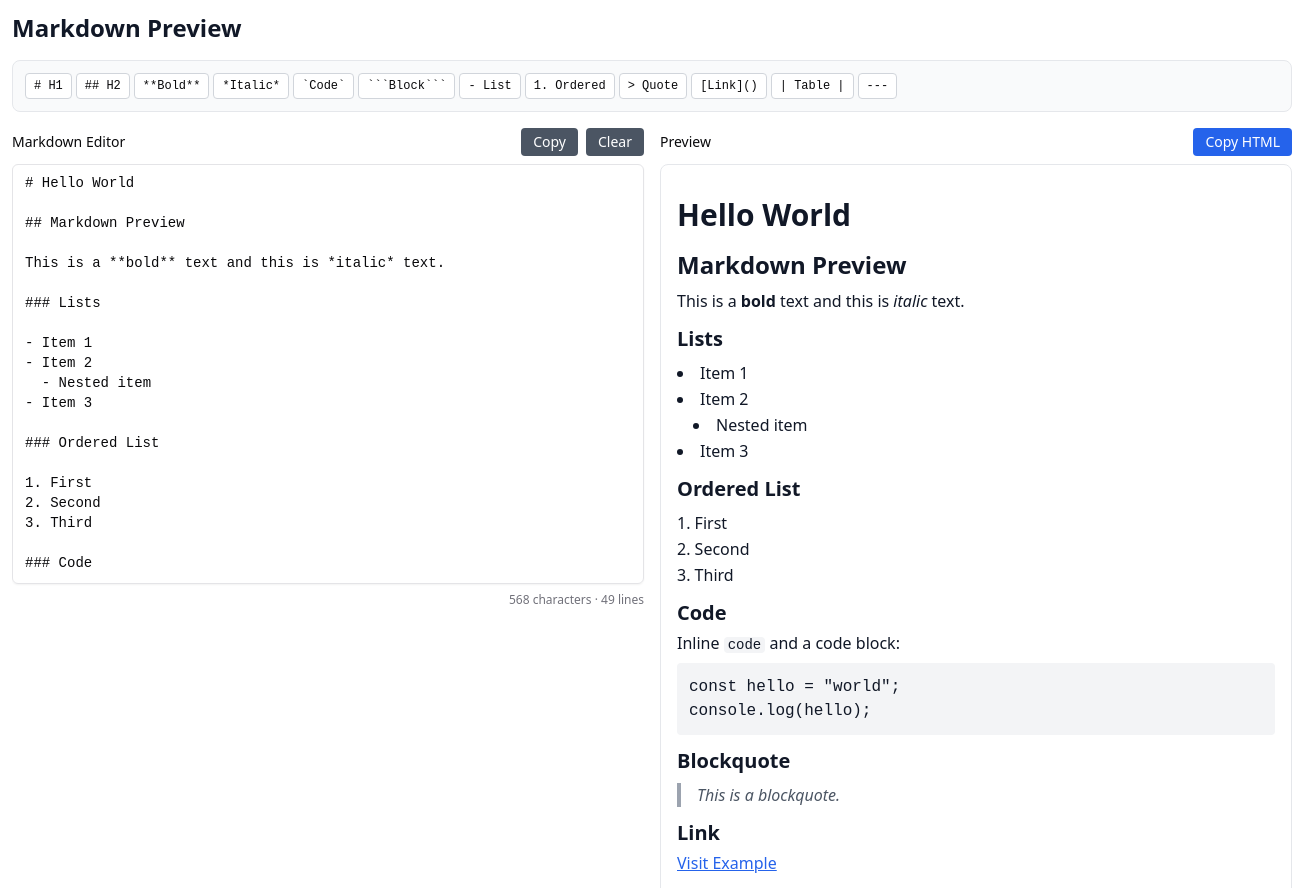
Test: MarkdownPreview › Clear Functionality › should clear the editor when Clear button clicked
The width and height of the screenshot is (1304, 888).
Click the button "Clear".
click(615, 142)  # box [586, 128, 644, 156]
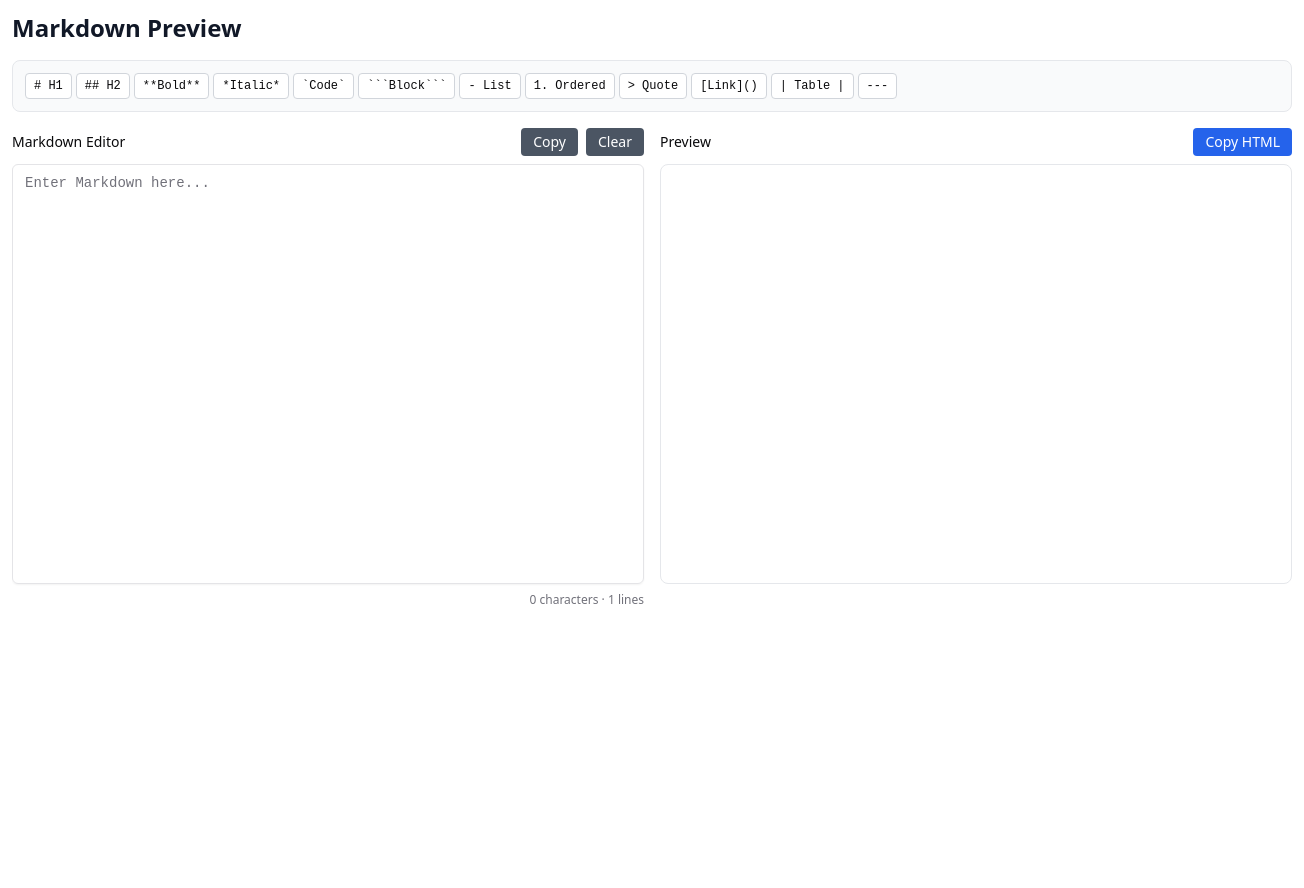
Now the text box with test id "markdown-editor" is empty, box [12, 164, 644, 584]
